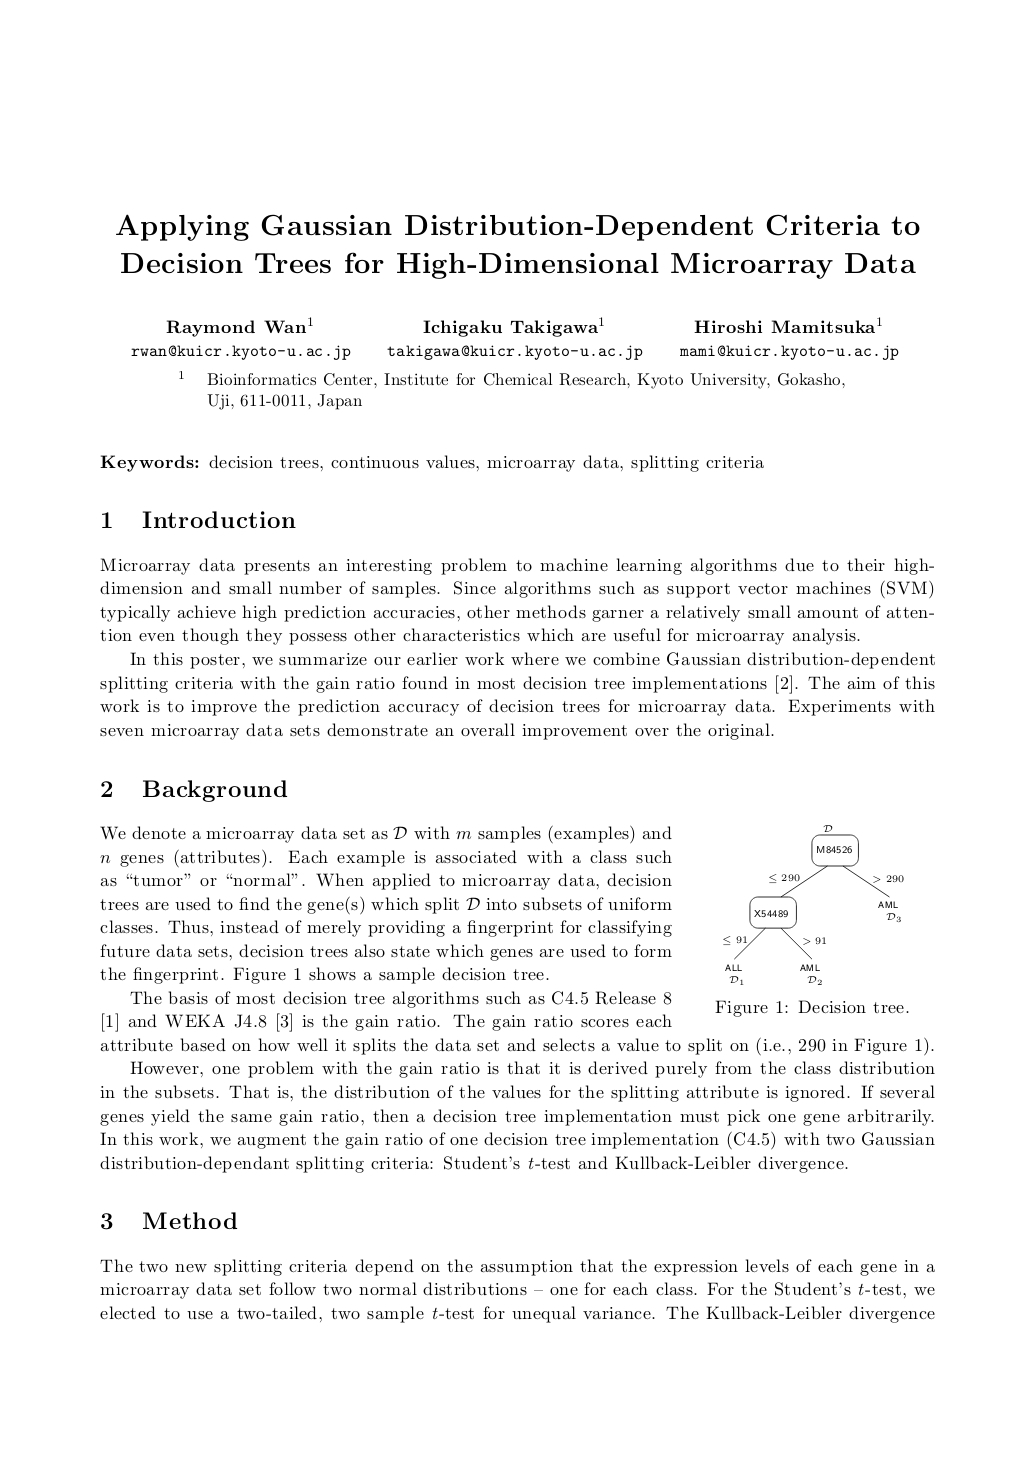figure: (713, 823, 908, 987)
